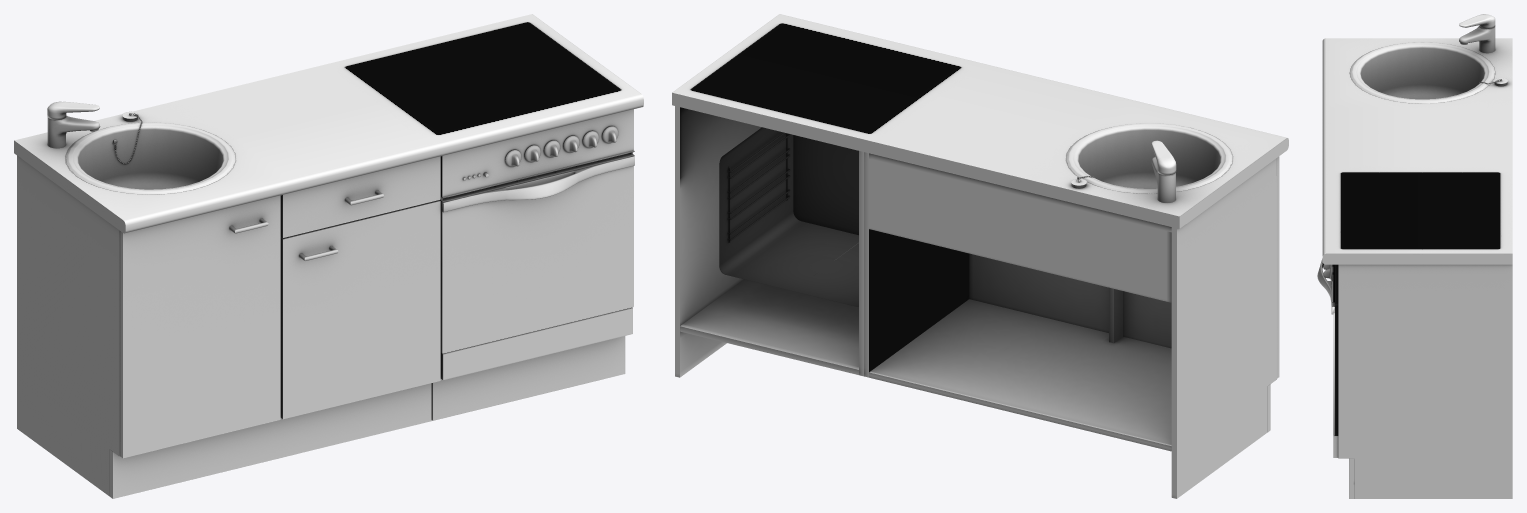
File: kitchan.obj
The picture shows the model from 3 angles, left to right: view 1: azimuth 30°, elevation 25°; view 2: azimuth 150°, elevation 25°; view 3: azimuth 270°, elevation 25°; orthographic projection. The views are drawn at different scales.
Parts seen in each view (by area): view 1: #CAB0001_Kitchen_Wood_White_86x160x60.014; view 2: #CAB0001_Kitchen_Wood_White_86x160x60.014; view 3: #CAB0001_Kitchen_Wood_White_86x160x60.014.
Part boxes in pixels (box(x1,y1,x2,y2)): #CAB0001_Kitchen_Wood_White_86x160x60.014: box(14, 14, 643, 498); #CAB0001_Kitchen_Wood_White_86x160x60.014: box(672, 14, 1288, 498); #CAB0001_Kitchen_Wood_White_86x160x60.014: box(1317, 14, 1512, 498).
Bounding box in the file's own units: 137 × 83.39 × 52.29.
